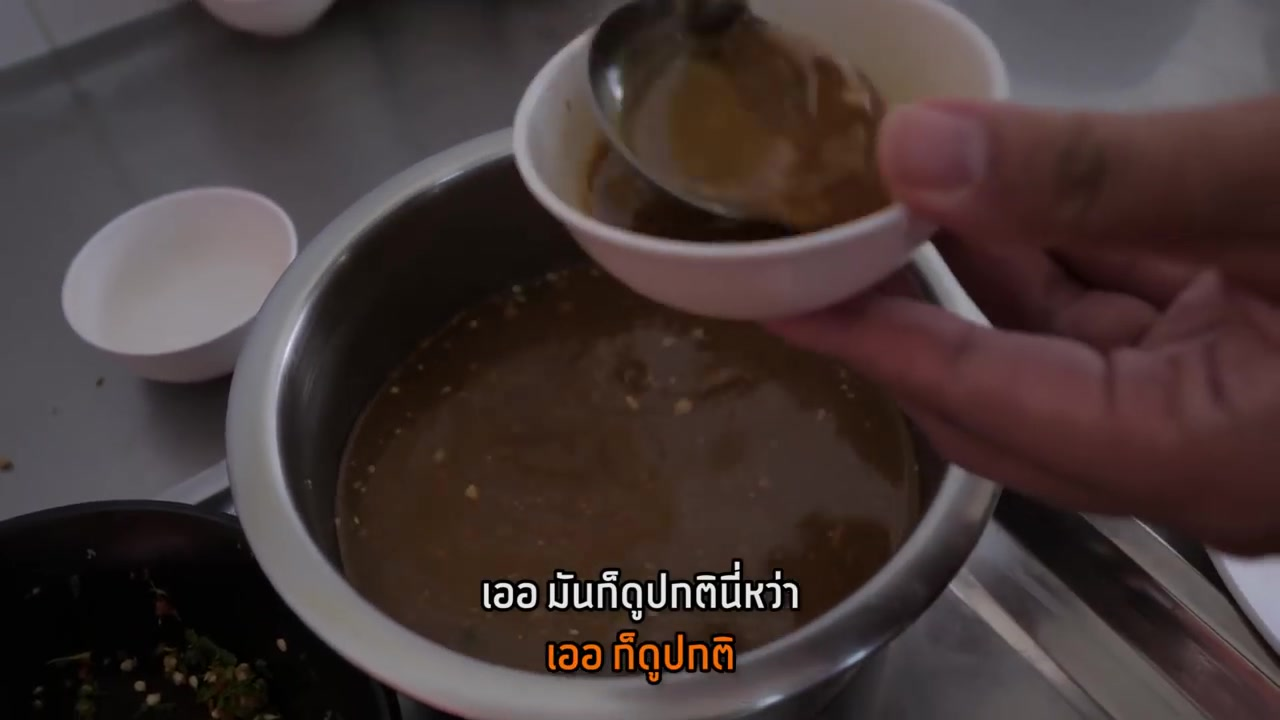text-label: (473, 553, 804, 620), (545, 626, 741, 684)
